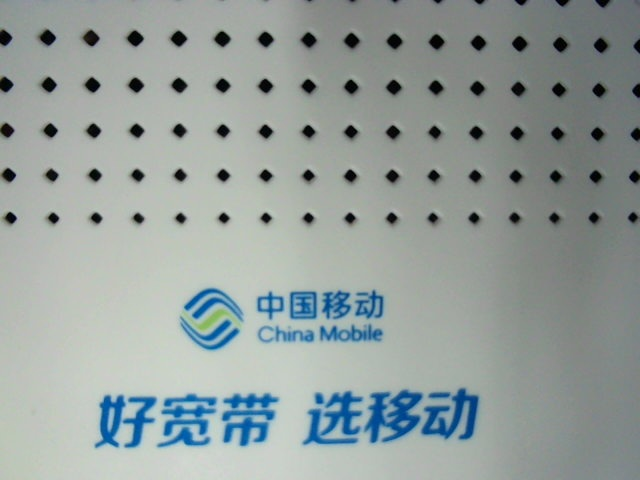AA_ChinaMoble: (82, 268, 484, 458)
